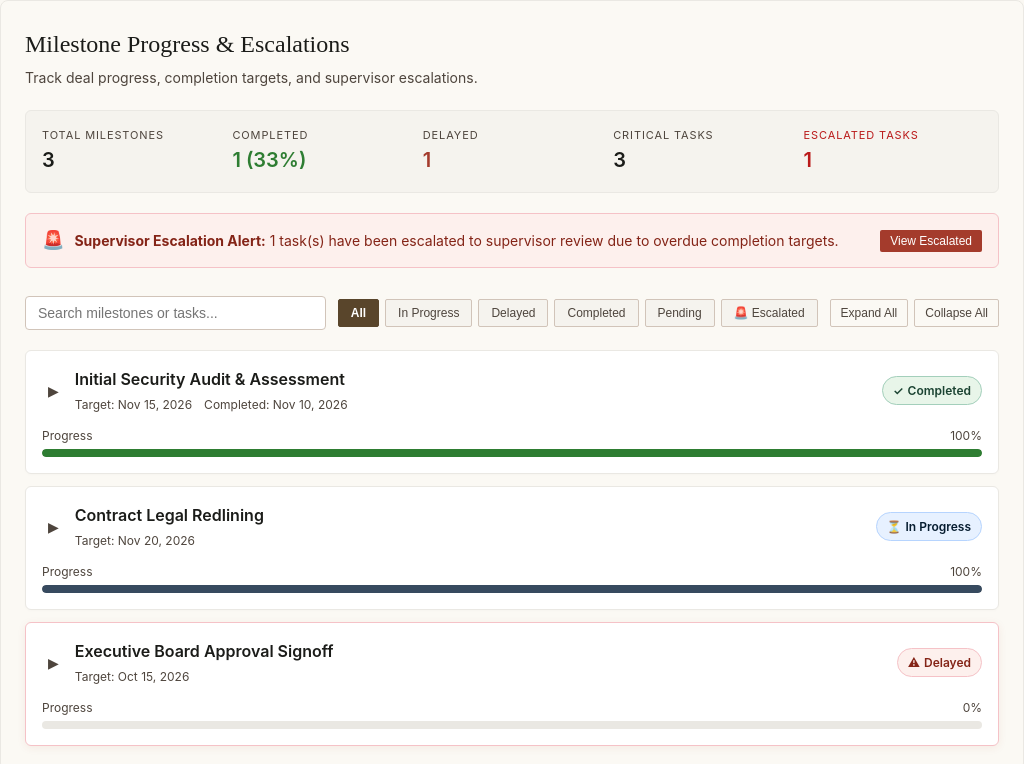
Test: MilestoneTracker Component › Filtering and Interaction Controls › expands and collapses all milestone task sections
Click the button with test id "expand-all-btn": (869, 313) [830,299,908,327]
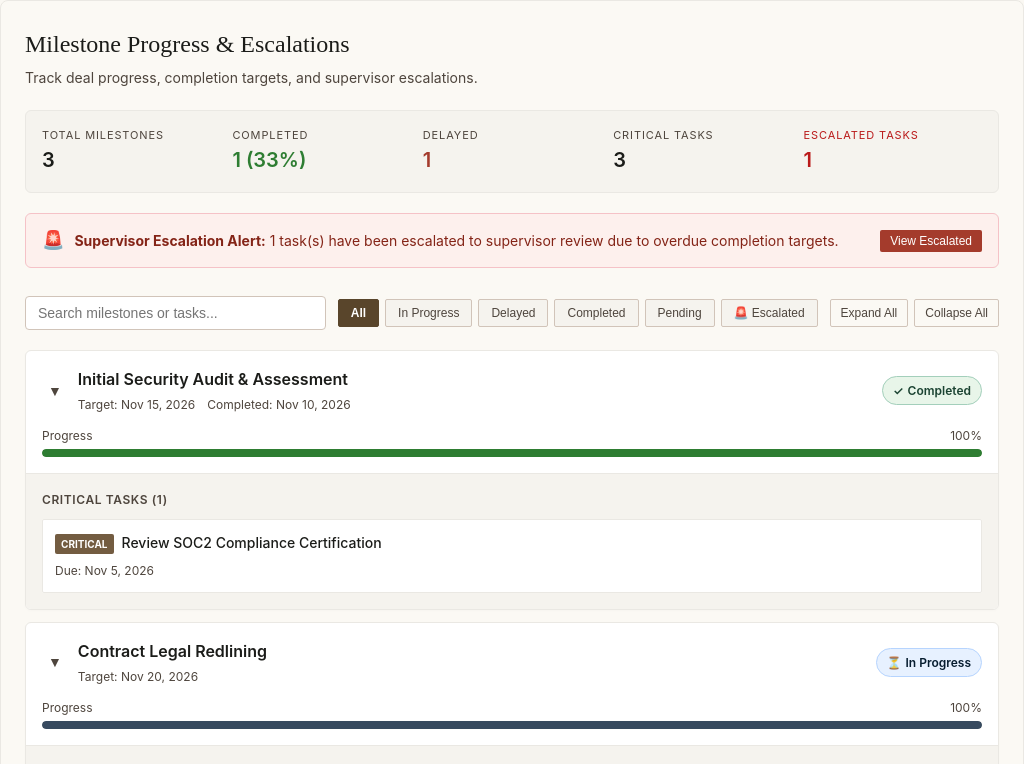
Expected: the element with test id "milestone-tasks-section-ms-1" is shown, [26,473,998,609]
Click the button with test id "collapse-all-btn": (957, 313) [914,299,999,327]
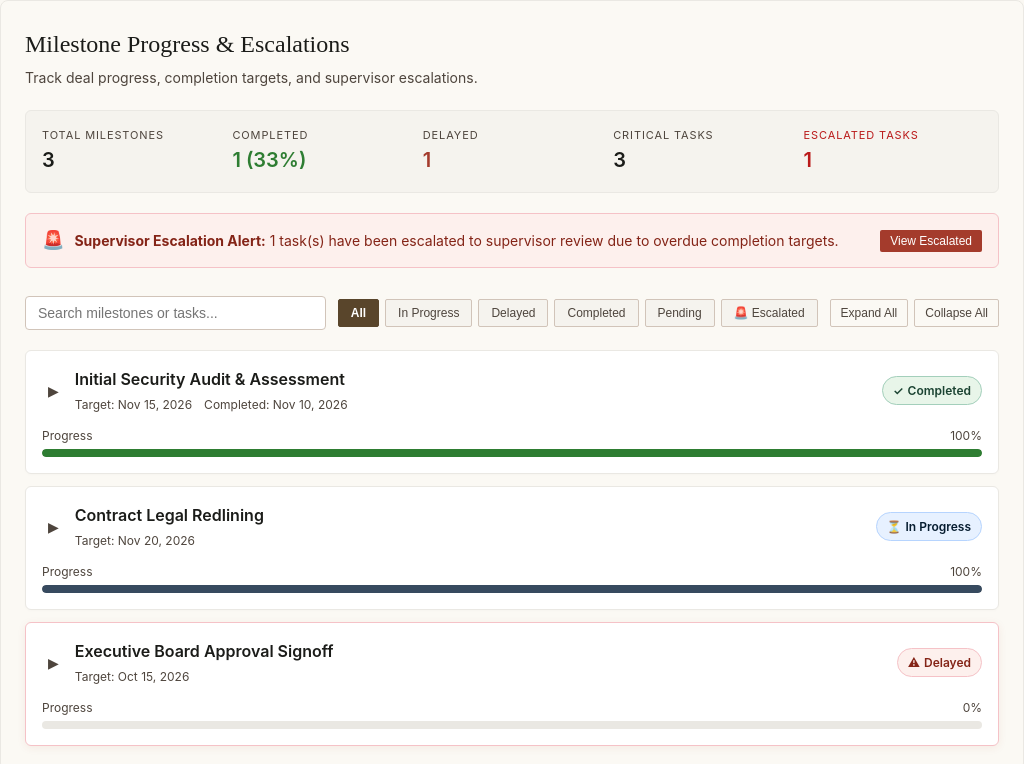
Expected: the element with test id "milestone-tasks-section-ms-1" is gone
